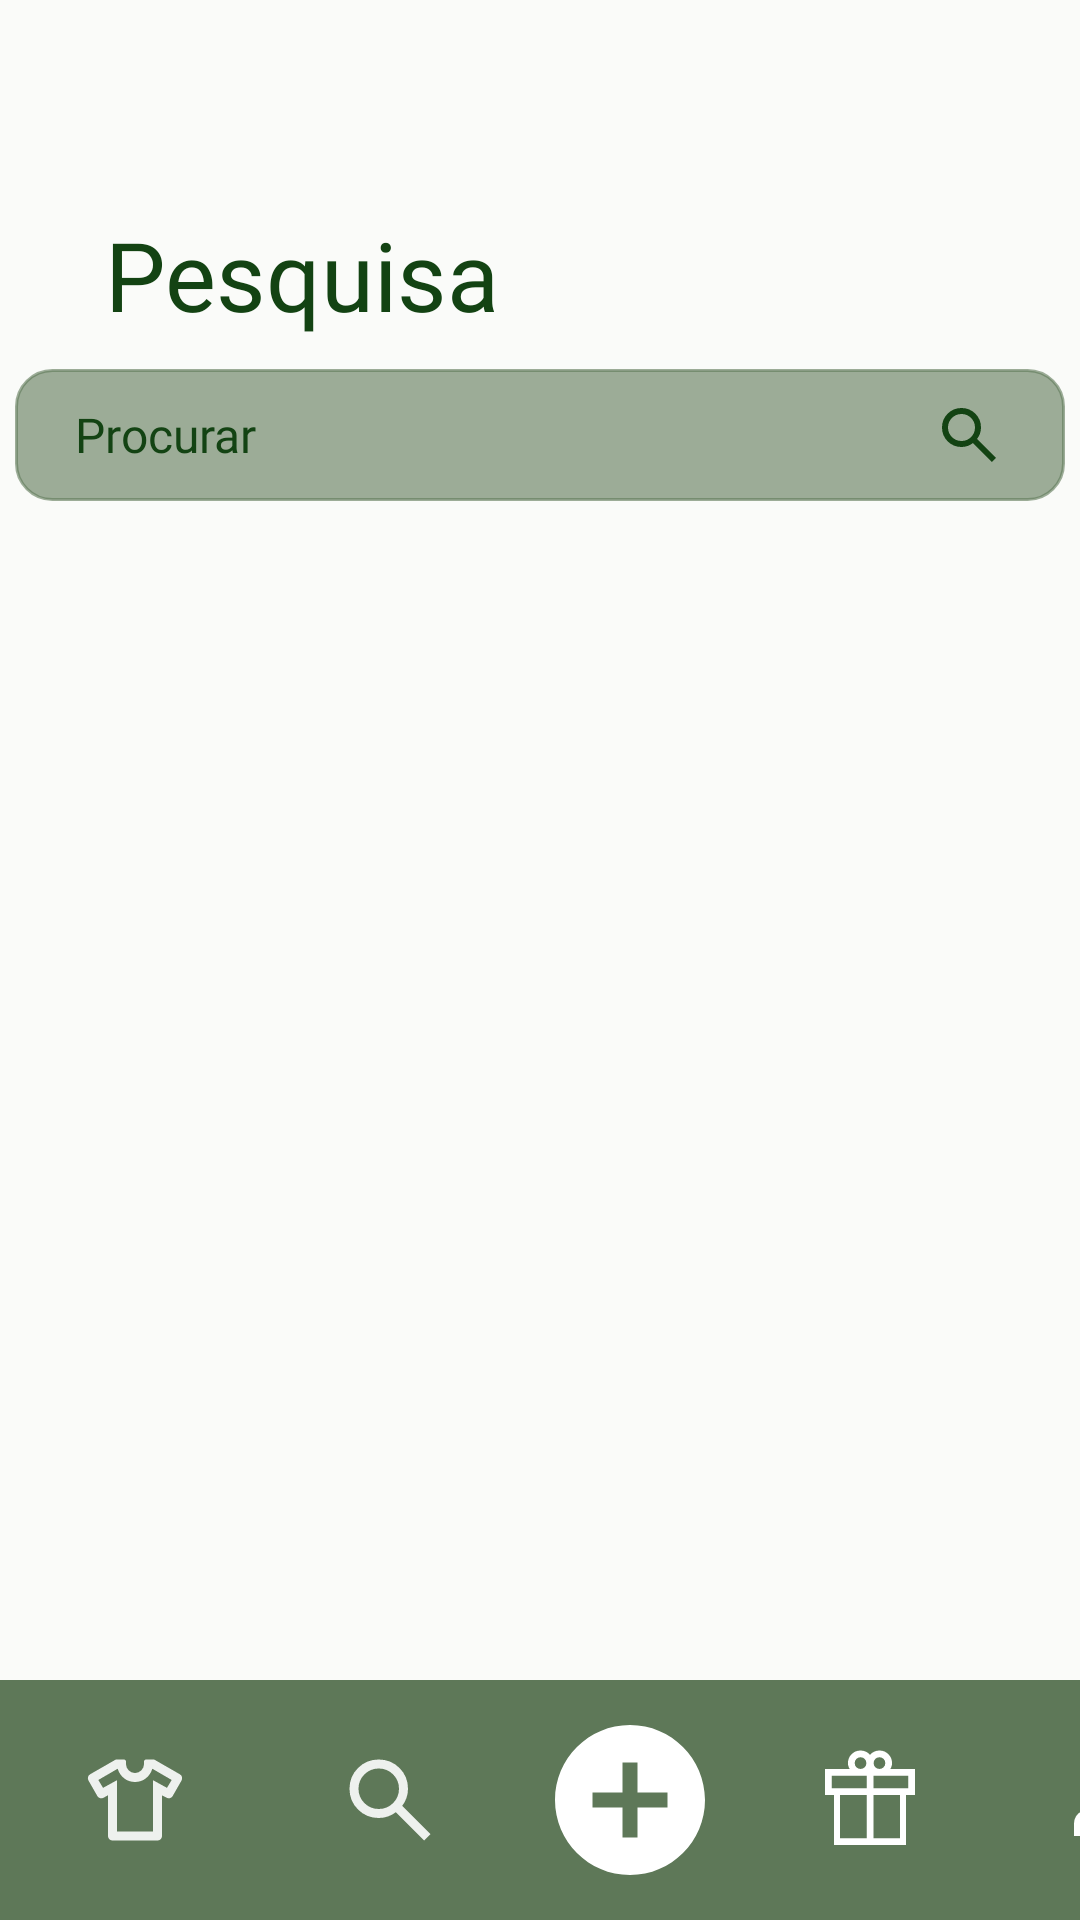

Icons on this 1080*1920 Android screen, each with its box as (x1, y1, x2, y2):
add circle: (555, 1725, 705, 1875)
iconedoacao: (825, 1750, 915, 1845)
search branco: (349, 1759, 431, 1841)
